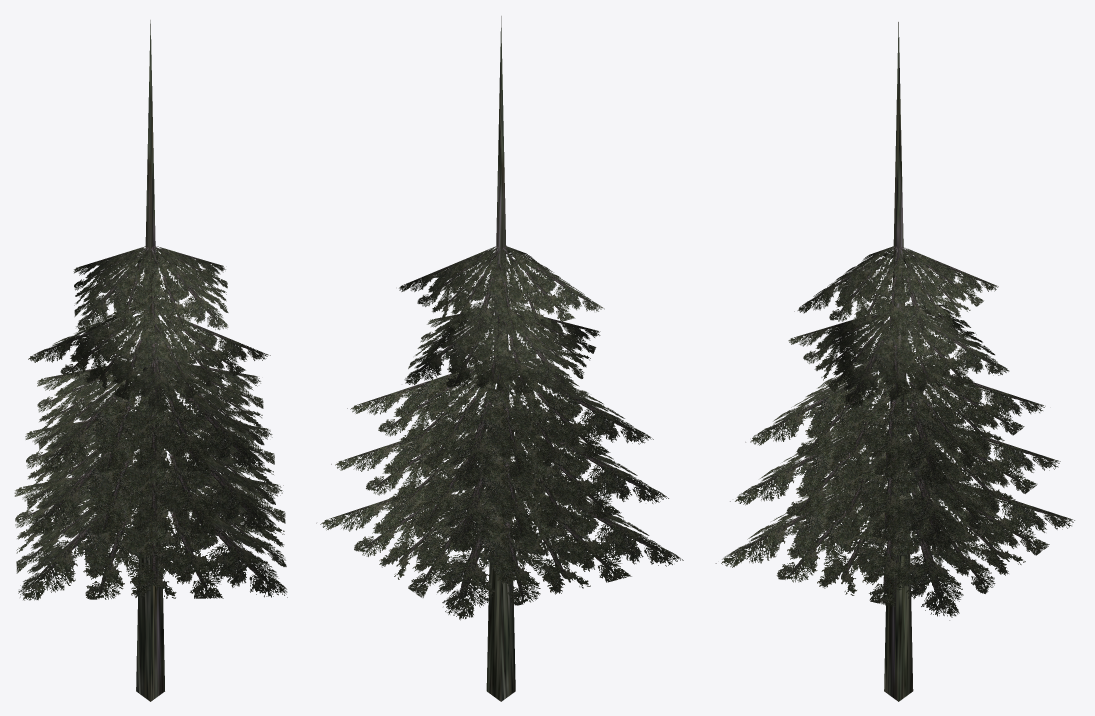
File: conf_mtns_pine_broken_l3.fbx
The picture shows the model from 3 angles, left to right: view 1: azimuth 30°, elevation 25°; view 2: azimuth 150°, elevation 25°; view 3: azimuth 270°, elevation 25°; orthographic projection.
Visible parts, largest first — view 1: mesh_node; view 2: mesh_node; view 3: mesh_node.
Boxes of the visible parts, bbox=[...] form: mesh_node: bbox=[14, 20, 287, 701]; mesh_node: bbox=[316, 16, 683, 701]; mesh_node: bbox=[715, 22, 1074, 701].
Size of the model in its own units: 9.59 by 19.57 by 9.53.
